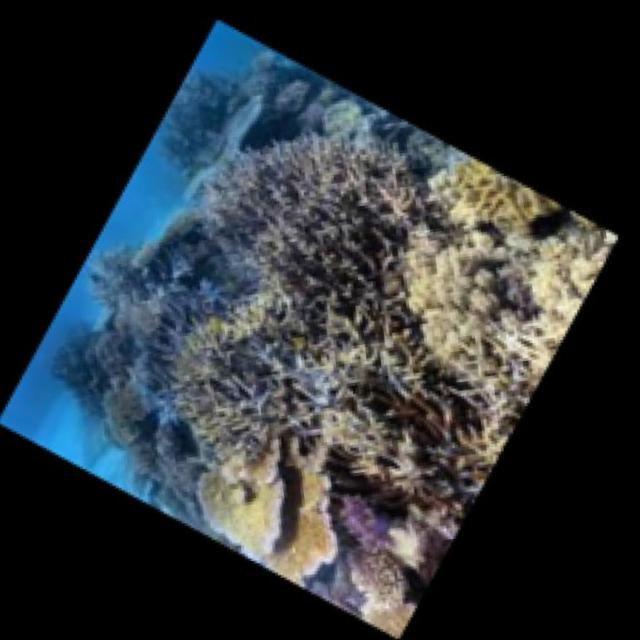Dead Coral: (181, 103, 436, 327), (93, 299, 366, 475), (328, 391, 472, 530)
